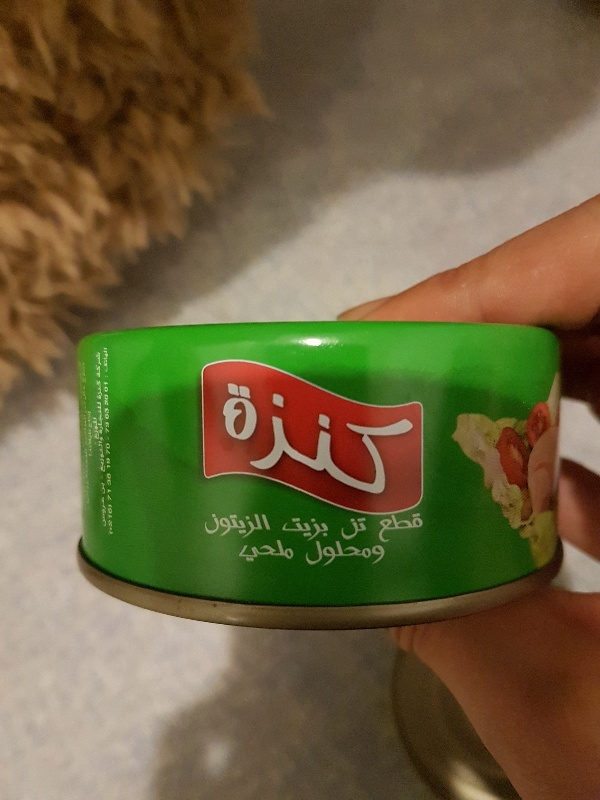text: (401, 380, 417, 503), (225, 380, 240, 503), (241, 380, 256, 503), (257, 380, 272, 503), (273, 380, 288, 503), (289, 380, 304, 503), (305, 380, 320, 503), (321, 380, 336, 503), (337, 380, 352, 503), (353, 380, 368, 503), (369, 380, 384, 503), (385, 380, 400, 503), (81, 360, 88, 506), (218, 380, 224, 503), (98, 435, 112, 474), (97, 401, 112, 436), (385, 512, 400, 544), (401, 512, 416, 544), (257, 513, 273, 539), (305, 541, 320, 568), (321, 541, 336, 568), (337, 541, 352, 568), (353, 541, 368, 568), (369, 541, 384, 568), (209, 513, 224, 539), (225, 513, 240, 539), (241, 513, 256, 539), (241, 539, 256, 564), (257, 539, 272, 564), (273, 539, 288, 564), (353, 517, 368, 541), (289, 517, 304, 541), (305, 517, 320, 541), (102, 497, 112, 527), (340, 517, 352, 541), (87, 429, 96, 458), (417, 512, 425, 544), (321, 517, 331, 541), (103, 348, 112, 374), (377, 512, 384, 544), (232, 539, 240, 564), (289, 539, 297, 564), (280, 517, 288, 541), (97, 351, 103, 379), (97, 379, 104, 403), (107, 503, 112, 536), (385, 541, 391, 568), (88, 411, 96, 430), (101, 482, 112, 495), (204, 513, 208, 539), (104, 394, 112, 407), (103, 382, 112, 393), (104, 408, 112, 420), (105, 422, 112, 435), (106, 473, 112, 487), (93, 416, 96, 443), (97, 416, 100, 443), (106, 443, 112, 456), (369, 517, 372, 541), (100, 475, 112, 481), (106, 458, 112, 470), (107, 489, 112, 502), (302, 541, 304, 568), (113, 503, 114, 536), (107, 436, 112, 442), (95, 379, 96, 403), (104, 375, 112, 378)
